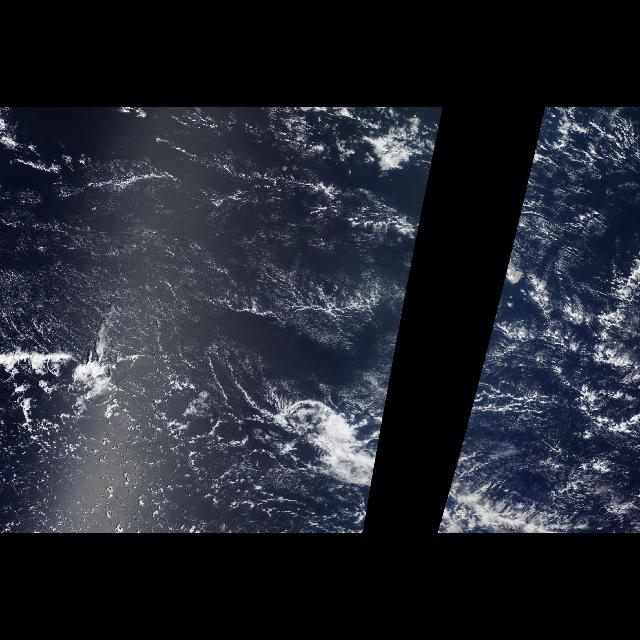Gravel: (1, 197, 376, 499), (469, 195, 637, 459)
Sugar: (1, 174, 400, 353)
